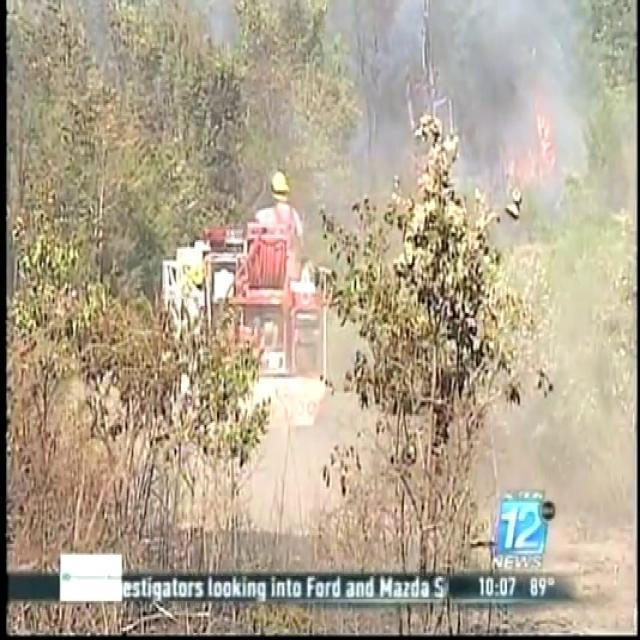Smoke: (304, 0, 628, 233)
